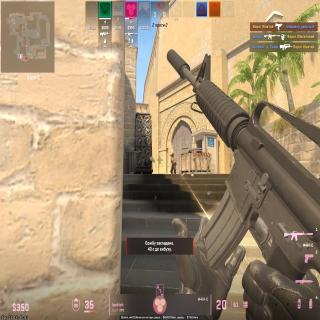T-Body: (170, 153, 176, 174)
T-Head: (172, 153, 174, 157)
